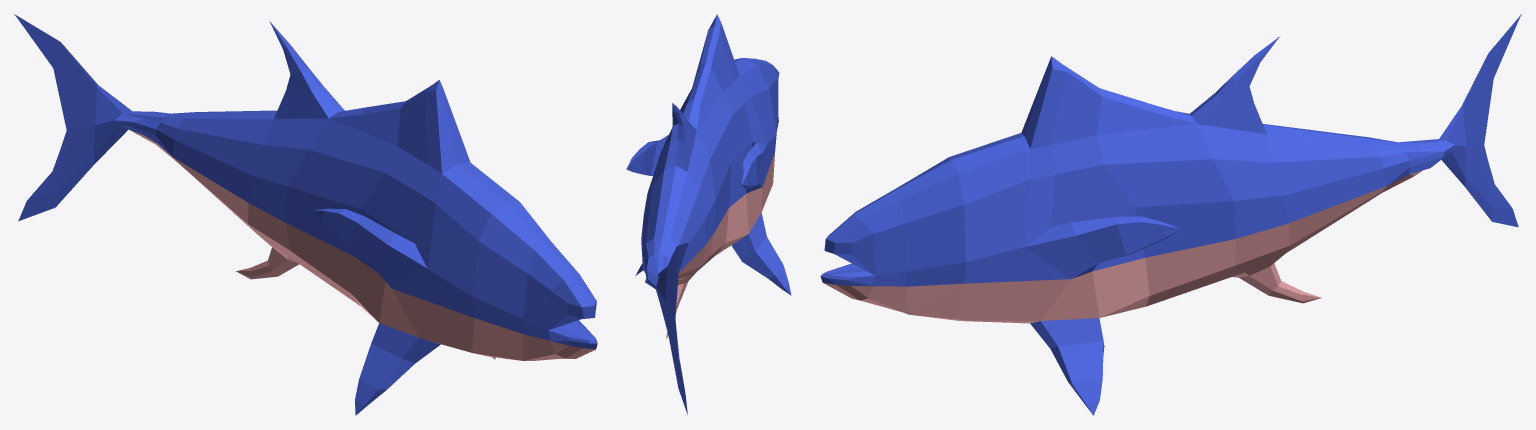
File: tuna.glb
The picture shows the model from 3 angles, left to right: view 1: azimuth 30°, elevation 25°; view 2: azimuth 150°, elevation 25°; view 3: azimuth 270°, elevation 25°; orthographic projection. The views are drawn at different scales.
Parts seen in each view (by area): view 1: Tuna_TunaMesh.001; view 2: Tuna_TunaMesh.001; view 3: Tuna_TunaMesh.001.
Part boxes in pixels (x1,y1,x2,y2): Tuna_TunaMesh.001: (14,14,597,415); Tuna_TunaMesh.001: (626,14,791,415); Tuna_TunaMesh.001: (820,14,1521,415).
Size of the model in its own units: 0.7546 by 0.8318 by 1.64.
